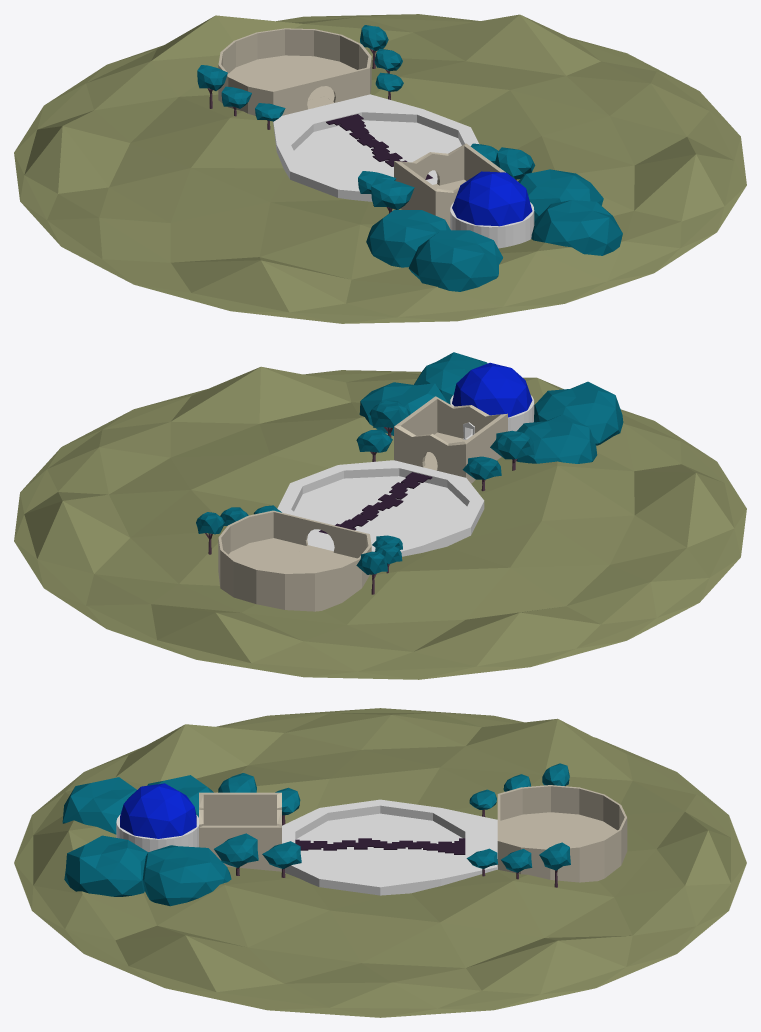
The model's file is galleries3.dae.
The picture shows the model from 3 angles, top to bottom: view 1: azimuth 30°, elevation 25°; view 2: azimuth 150°, elevation 25°; view 3: azimuth 270°, elevation 25°; orthographic projection.
Visible parts, largest first — view 1: Icosphere_002, Cylinder_001, Cylinder_002, tree-canopy_010, Cube, tree-canopy_011, roof-dome, tree-canopy_009, tree-canopy_008, Cylinder, Cube_029, tree-canopy_013 (+4 smaller); view 2: Icosphere_002, Cylinder_001, Cylinder_002, Cube, tree-canopy_010, roof-dome, tree-canopy_009, tree-canopy_008, tree-canopy_011, Cube_029, tree-canopy_013, tree-canopy_012 (+3 smaller); view 3: Icosphere_002, Cylinder_001, Cylinder_002, Cube, tree-canopy_011, tree-canopy_008, roof-dome, tree-canopy_010, Cube_029, tree-canopy_012, Cylinder, tree-canopy_009 (+5 smaller).
Part boxes in pixels (left/top/right/bottom): Icosphere_002: left=14, top=14, right=746, bottom=323; Cylinder_001: left=273, top=94, right=478, bottom=201; Cylinder_002: left=218, top=28, right=371, bottom=115; tree-canopy_010: left=408, top=230, right=502, bottom=291; Cube: left=394, top=143, right=505, bottom=228; tree-canopy_011: left=531, top=200, right=622, bottom=255; roof-dome: left=452, top=171, right=532, bottom=226; tree-canopy_009: left=366, top=210, right=450, bottom=267; tree-canopy_008: left=518, top=169, right=603, bottom=222; Cylinder: left=450, top=202, right=534, bottom=248; Cube_029: left=326, top=114, right=432, bottom=179; tree-canopy_013: left=371, top=178, right=414, bottom=209; Icosphere_002: left=14, top=366, right=746, bottom=679; Cylinder_001: left=277, top=460, right=484, bottom=556; Cylinder_002: left=218, top=510, right=371, bottom=611; Cube: left=394, top=396, right=507, bottom=483; tree-canopy_010: left=534, top=381, right=623, bottom=445; roof-dome: left=452, top=362, right=532, bottom=417; tree-canopy_009: left=516, top=414, right=597, bottom=463; tree-canopy_008: left=359, top=382, right=448, bottom=435; tree-canopy_011: left=414, top=352, right=487, bottom=404; Cube_029: left=319, top=472, right=432, bottom=533; tree-canopy_013: left=490, top=430, right=534, bottom=459; tree-canopy_012: left=369, top=400, right=410, bottom=428; Icosphere_002: left=14, top=708, right=746, bottom=1017; Cylinder_001: left=281, top=799, right=497, bottom=895; Cylinder_002: left=497, top=785, right=627, bottom=882; Cube: left=199, top=792, right=281, bottom=871; tree-canopy_011: left=64, top=835, right=147, bottom=896; tree-canopy_008: left=142, top=845, right=231, bottom=906; roof-dome: left=120, top=783, right=196, bottom=838; tree-canopy_010: left=62, top=777, right=136, bottom=834; Cube_029: left=295, top=838, right=465, bottom=854; tree-canopy_012: left=214, top=833, right=258, bottom=867; Cylinder: left=116, top=814, right=198, bottom=852; tree-canopy_009: left=147, top=775, right=213, bottom=817.
Size of the model in its own units: 44.91 by 44.91 by 5.99.
